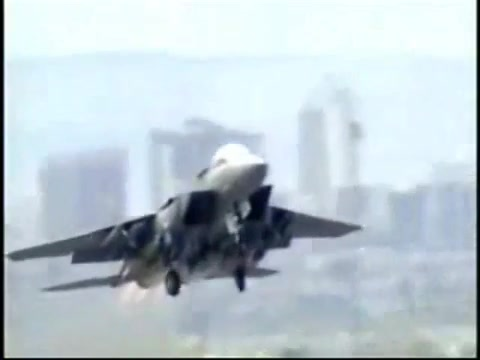aeroplane: (7, 145, 362, 300)
